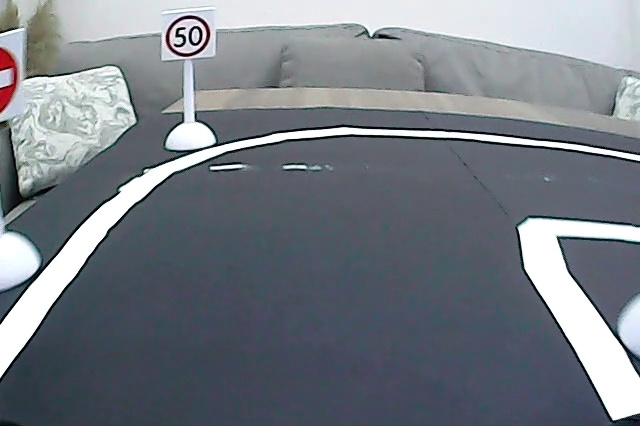speed limit 50: (165, 13, 212, 61)
